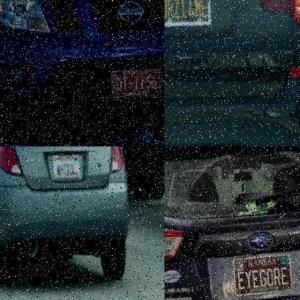Plate: (233, 253, 294, 297), (113, 68, 163, 98), (164, 0, 213, 30), (52, 151, 84, 181)
